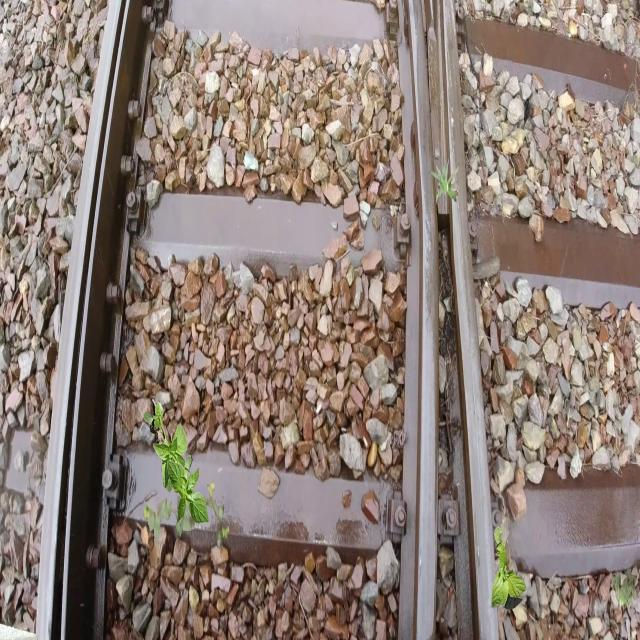Plant: (143, 481, 230, 550), (144, 398, 192, 493), (168, 455, 210, 526), (491, 526, 526, 610), (427, 157, 460, 203), (612, 568, 638, 610)
